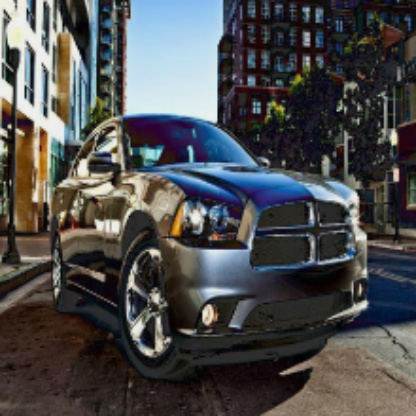Vehicle: (47, 112, 371, 386)
